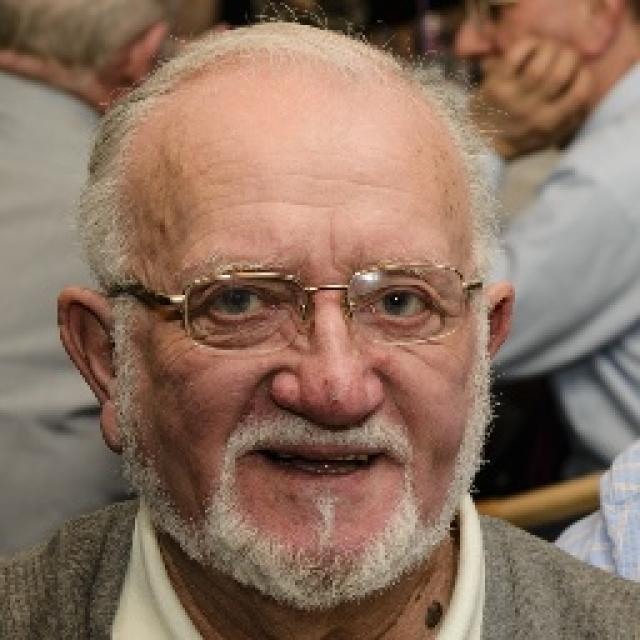earlobe: (54, 286, 136, 458), (481, 282, 516, 368)
